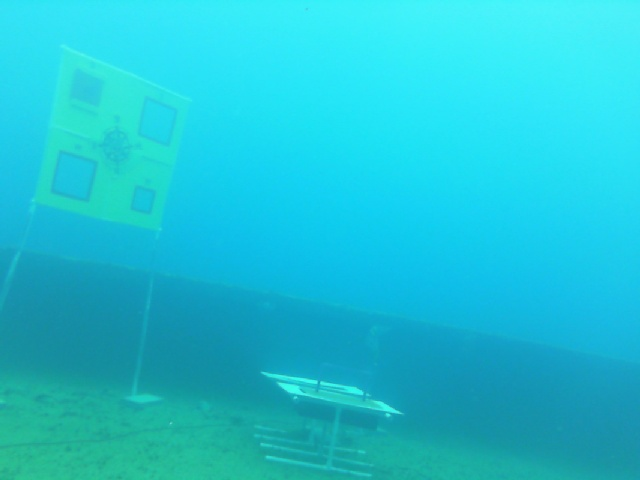bin_cover: (232, 355, 400, 476)
torpedo_cover: (67, 72, 107, 109)
torpedo_hole: (42, 154, 97, 203), (138, 96, 180, 151), (66, 65, 108, 109), (132, 182, 158, 212)
torpedo_target: (21, 34, 197, 235)
